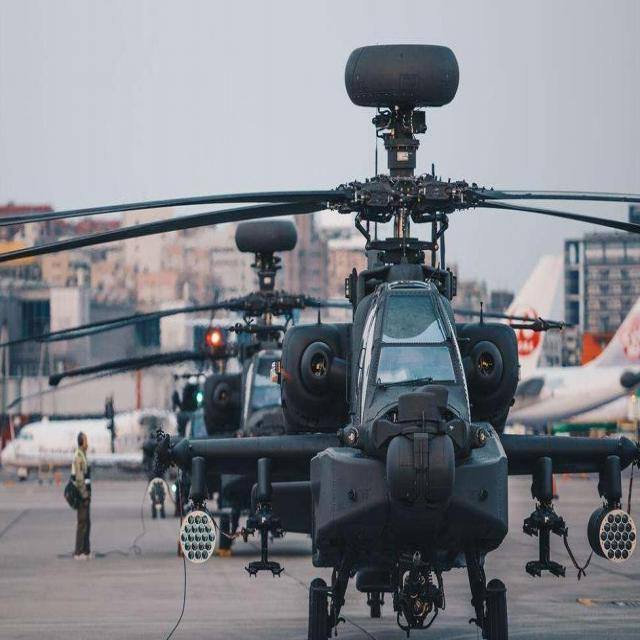MIL_HELO: (2, 41, 640, 640), (27, 225, 375, 550)
